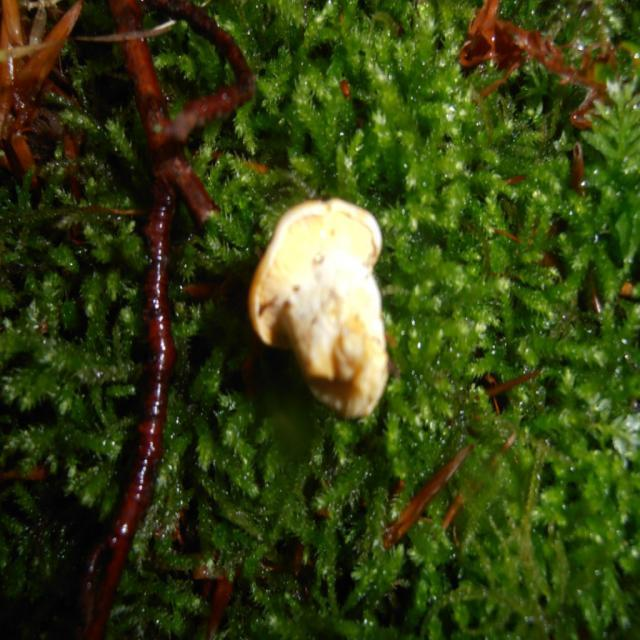Cantharellus cibarius: (254, 196, 388, 419)
